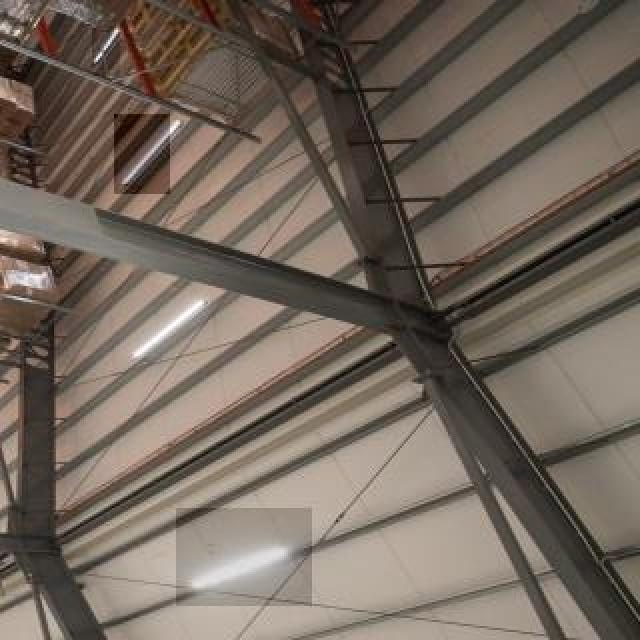fluorescent tube: (180, 531, 309, 591), (125, 291, 219, 373), (117, 109, 166, 192), (0, 430, 8, 526)
